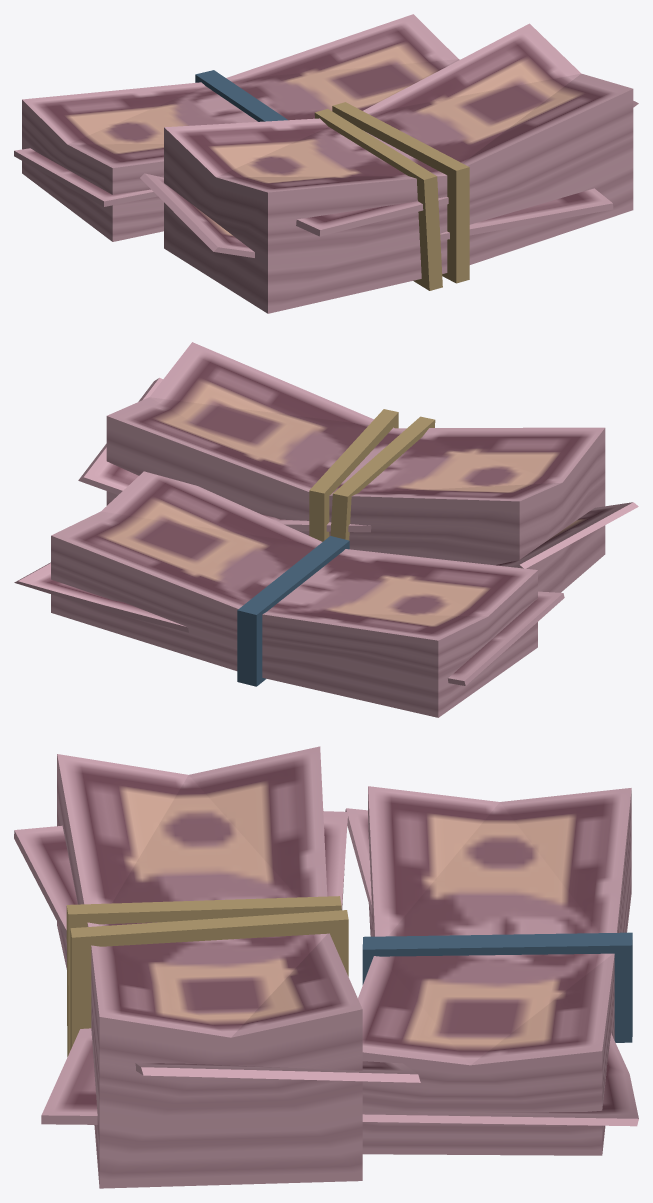
The model's file is SM_Prop_Money_Stack_02.fbx.
3 renders of one model, top to bottom at view 1: azimuth 30°, elevation 25°; view 2: azimuth 150°, elevation 25°; view 3: azimuth 270°, elevation 25°, orthographic. The views are drawn at different scales.
Parts seen in each view (by area): view 1: SM_Prop_Money_Stack_02; view 2: SM_Prop_Money_Stack_02; view 3: SM_Prop_Money_Stack_02.
Part boxes in pixels (x1,y1,x2,y2): SM_Prop_Money_Stack_02: (14,14,638,313); SM_Prop_Money_Stack_02: (14,342,638,717); SM_Prop_Money_Stack_02: (14,746,638,1188).
Bounding box in the file's own units: 33.28 × 9.7 × 27.42.
